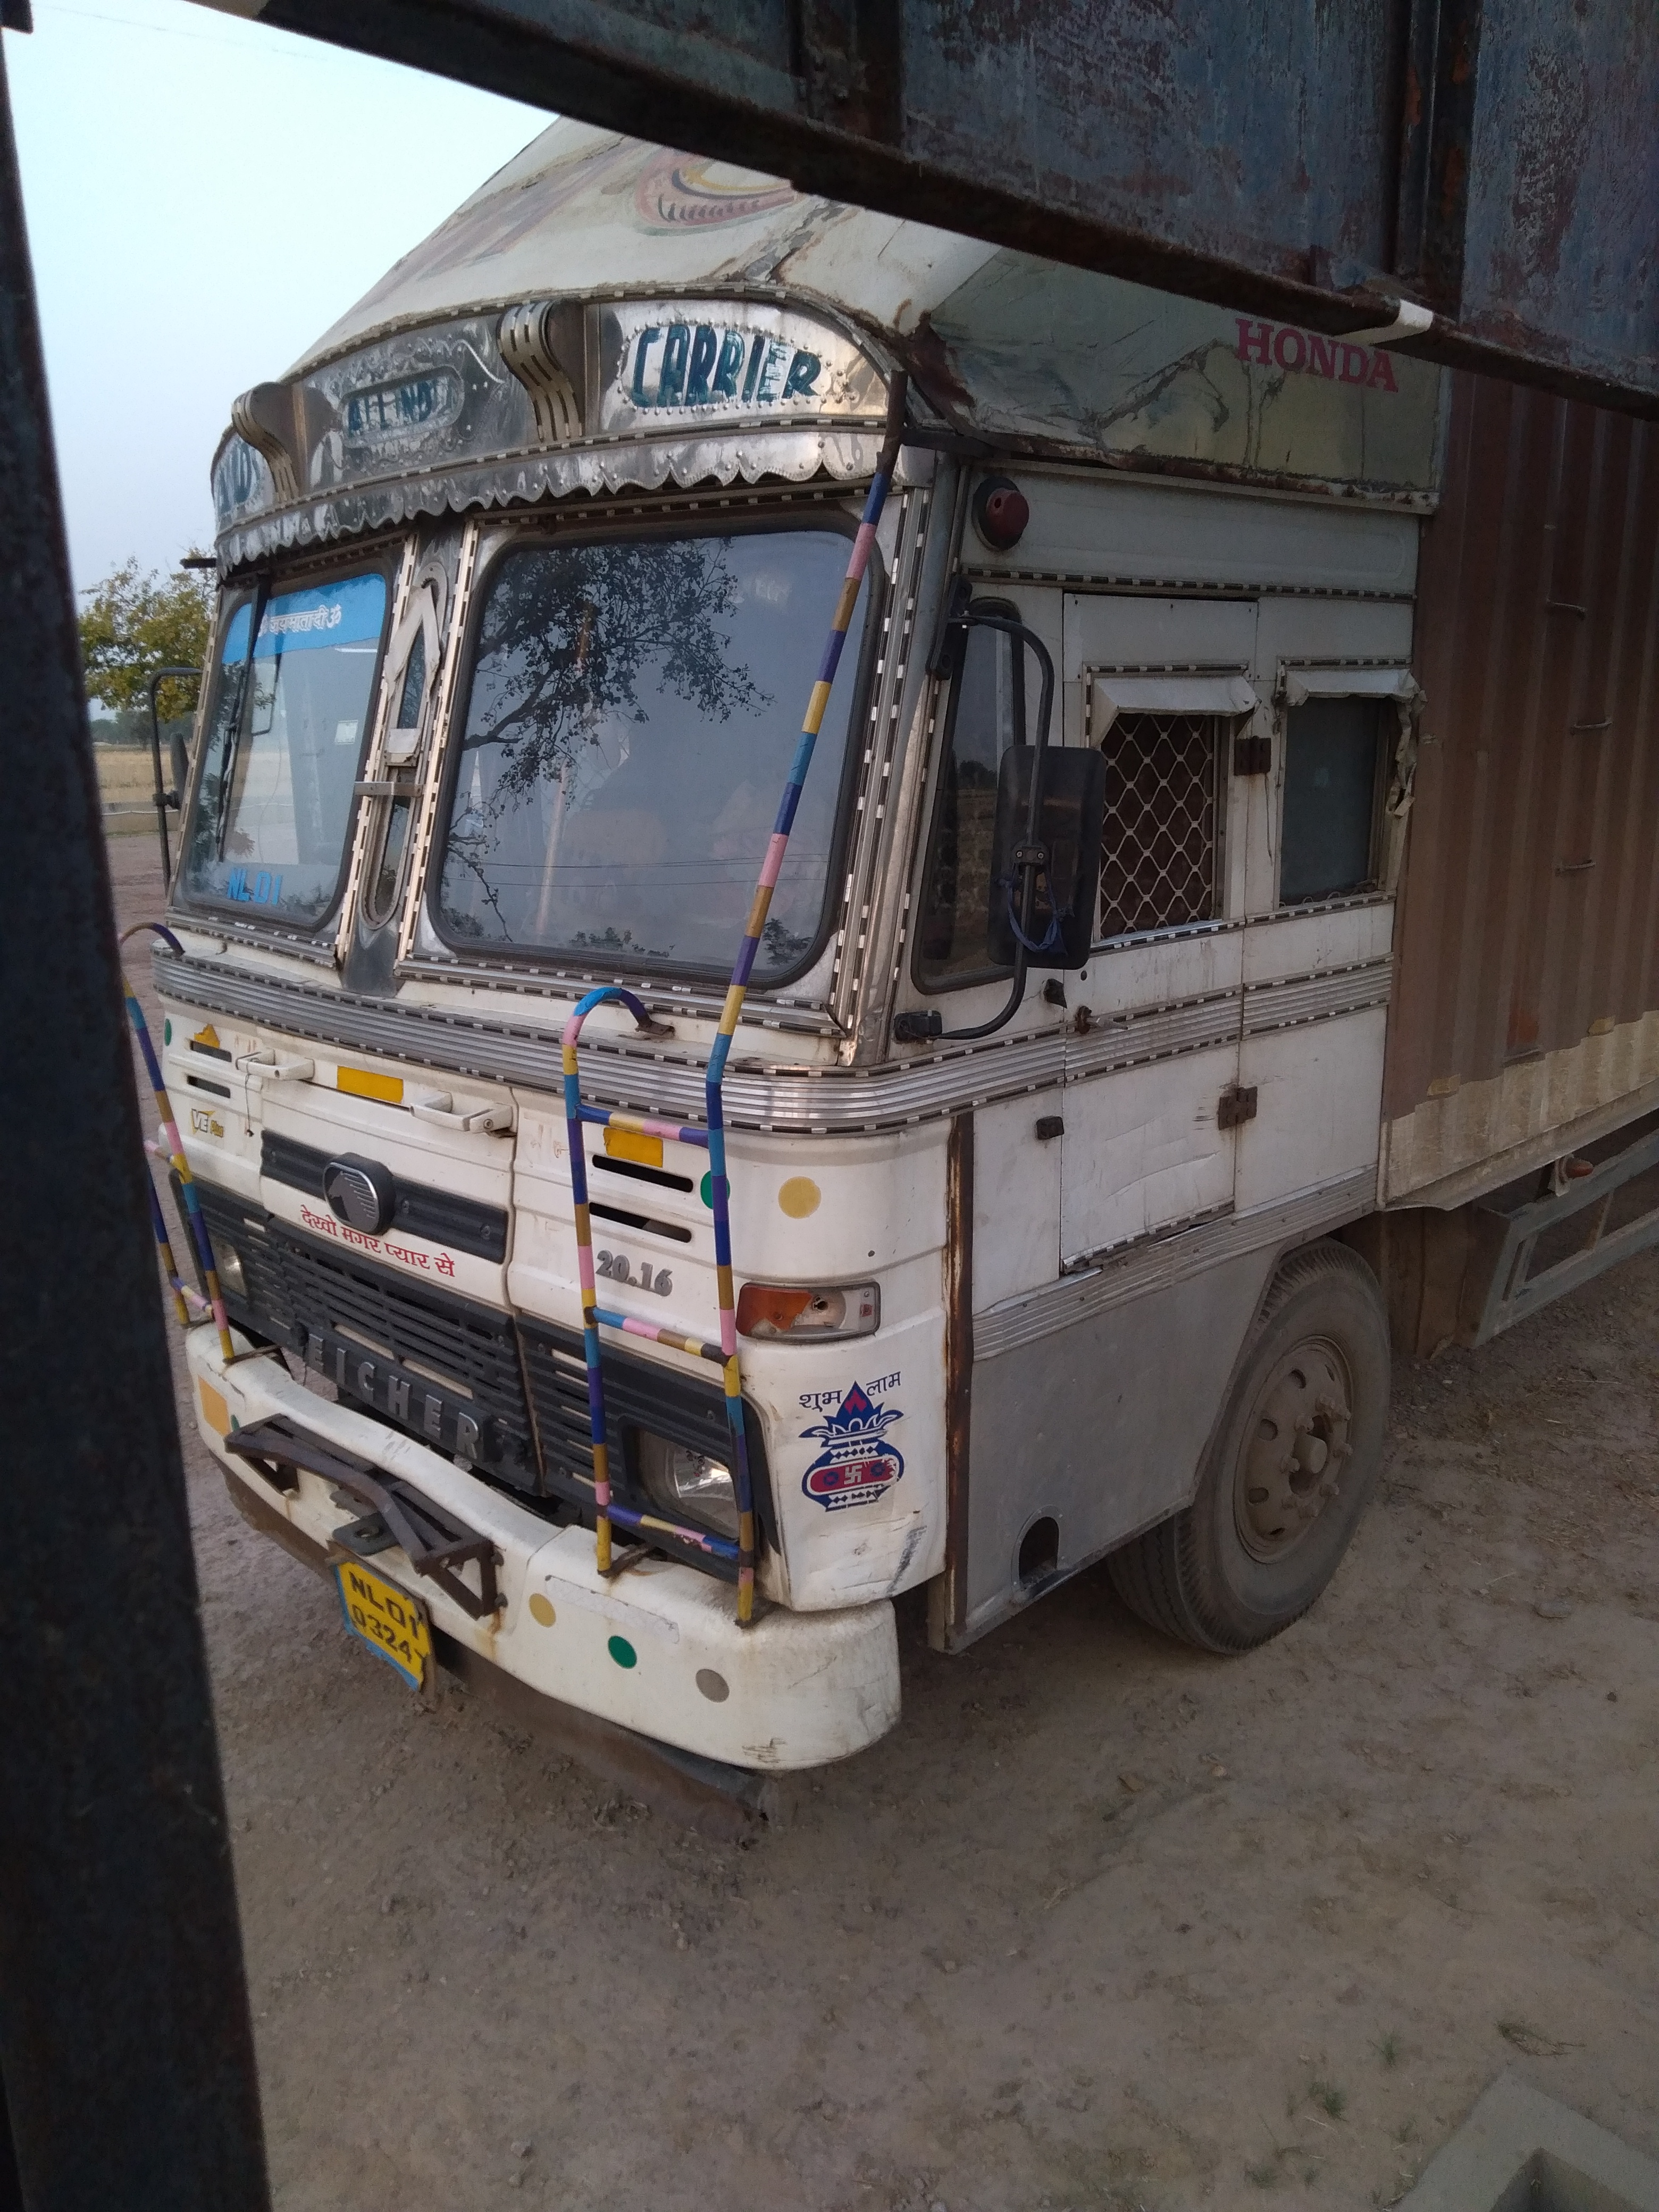truck: (108, 110, 1659, 1851)
